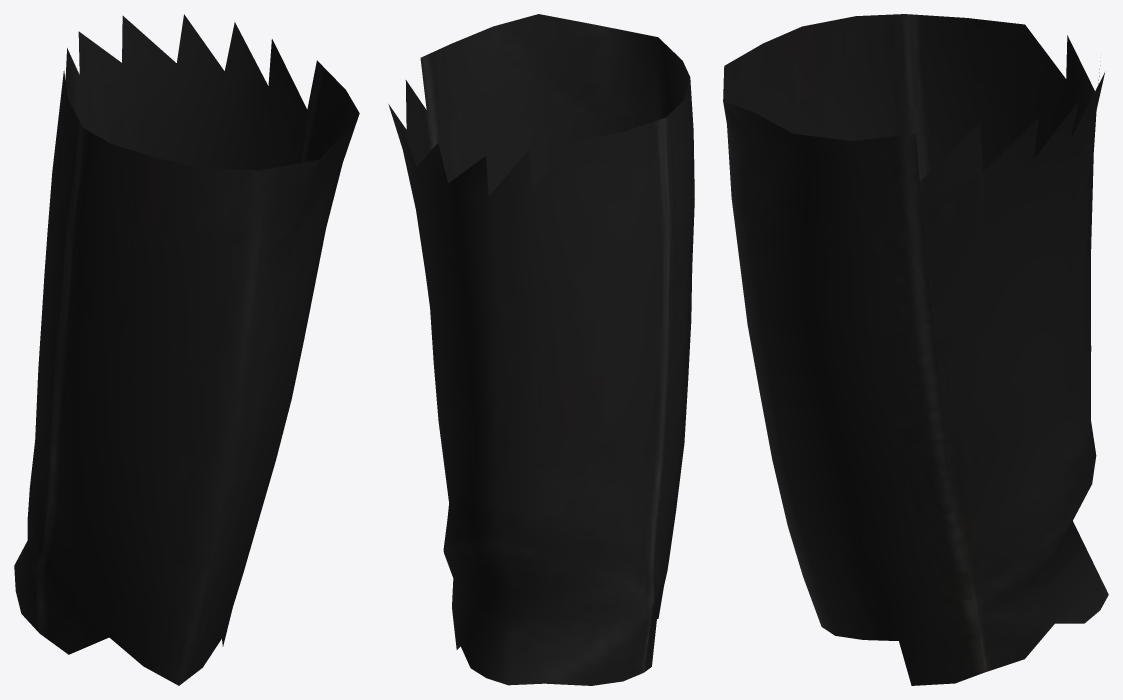
Rendered from muslo_der.obj.
The picture shows the model from 3 angles, left to right: view 1: azimuth 30°, elevation 25°; view 2: azimuth 150°, elevation 25°; view 3: azimuth 270°, elevation 25°; orthographic projection. The views are drawn at different scales.
Parts seen in each view (by area): view 1: node_id797.003; view 2: node_id797.003; view 3: node_id797.003.
Boxes of the visible parts, bbox=[...] form: node_id797.003: bbox=[14, 14, 359, 685]; node_id797.003: bbox=[388, 14, 694, 685]; node_id797.003: bbox=[723, 14, 1108, 685].
Size of the model in its own units: 0.1679 by 0.3568 by 0.2047.
1 material, 1 textured.
